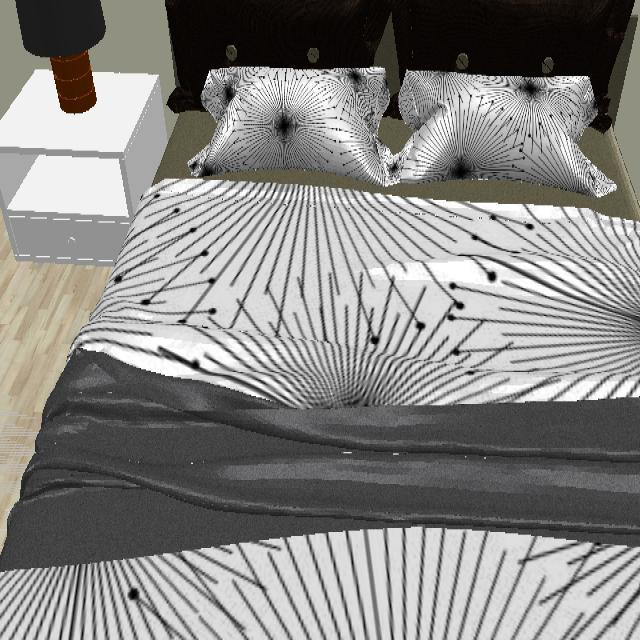bed: (0, 0, 640, 575)
lamp: (14, 0, 107, 115)
nighttable: (0, 69, 175, 261)
